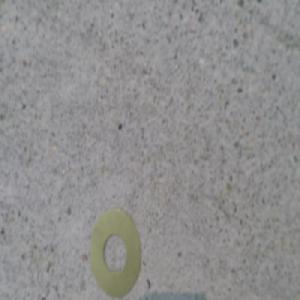Washer: (89, 207, 141, 296)
